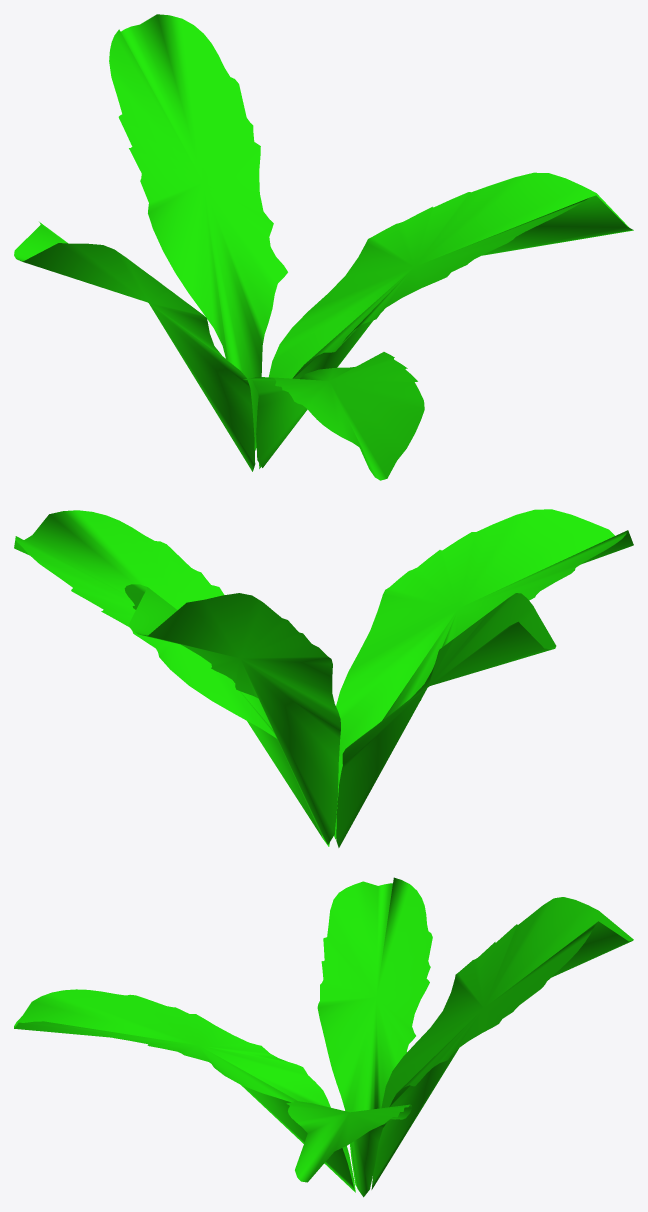
File: Laitue_Croissance_1.fbx
3 renders of one model, top to bottom at view 1: azimuth 30°, elevation 25°; view 2: azimuth 150°, elevation 25°; view 3: azimuth 270°, elevation 25°, orthographic. The views are drawn at different scales.
Parts seen in each view (by area): view 1: Feuille, Feuille.003, Feuille.001, Feuille.002; view 2: Feuille.001, Feuille, Feuille.003, Feuille.002; view 3: Feuille.002, Feuille, Feuille.001, Feuille.003.
Boxes of the visible parts, x1,y1,x2,y2 form: Feuille: (109,14,287,450); Feuille.003: (259,172,633,468); Feuille.001: (243,352,424,480); Feuille.002: (14,222,255,471); Feuille.001: (334,509,633,839); Feuille: (124,584,340,844); Feuille.003: (14,510,329,846); Feuille.002: (336,593,556,847); Feuille.002: (317,877,432,1187); Feuille: (371,897,633,1189); Feuille.001: (14,989,355,1192); Feuille.003: (286,1100,412,1197).
Size of the model in its own units: 79.82 by 46.21 by 89.1.
